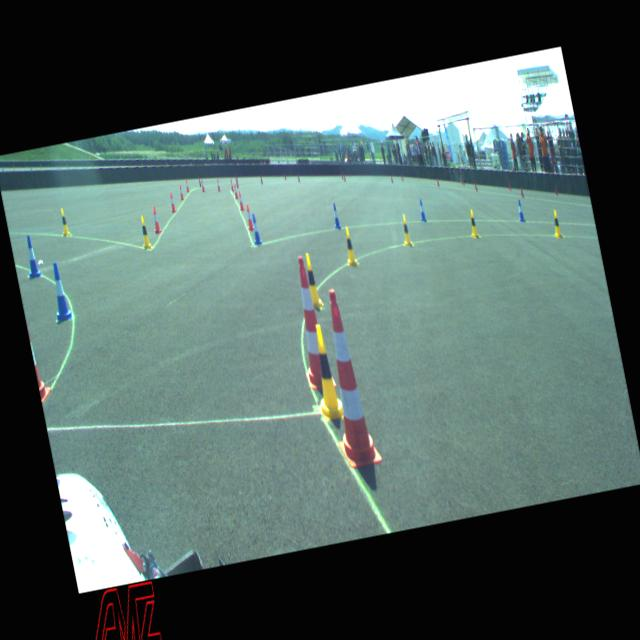blue_cone: (46, 261, 72, 320), (22, 234, 42, 279), (249, 212, 262, 246), (331, 202, 342, 230), (417, 198, 428, 224), (516, 200, 526, 222)
large_orange_cone: (310, 286, 383, 470), (283, 251, 337, 394)
orange_cone: (24, 306, 55, 406), (150, 206, 162, 234), (244, 204, 255, 232), (168, 192, 177, 214), (237, 190, 245, 212), (178, 184, 185, 201), (233, 183, 239, 199), (200, 178, 206, 192), (184, 179, 190, 193), (229, 178, 235, 192), (216, 178, 221, 192)
unknown_cone: (519, 185, 524, 198), (473, 180, 478, 191), (508, 179, 512, 191), (436, 176, 440, 188), (198, 176, 202, 187), (554, 185, 558, 196), (342, 172, 346, 182), (390, 174, 394, 183), (235, 180, 239, 189), (401, 172, 404, 182), (341, 170, 344, 180), (260, 174, 263, 184), (297, 173, 300, 182), (462, 175, 464, 185), (284, 171, 286, 180)
yellow_cone: (303, 322, 348, 425), (302, 252, 323, 308), (341, 225, 358, 268), (138, 214, 152, 250), (399, 213, 413, 248), (467, 209, 480, 240), (550, 210, 563, 240), (59, 208, 70, 238)
